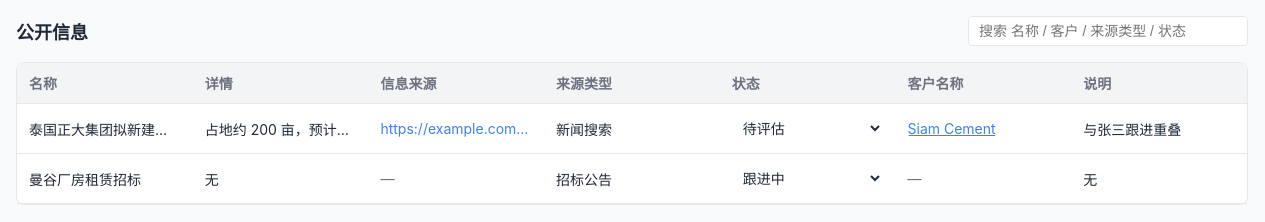
it: OpportunityList › filters opportunities by customer_name via search input
The width and height of the screenshot is (1265, 222).
Check: the button "Siam Cement" is shown, box [908,120,996,137]
Type "siam" into the search field with test id "search-input" at (1108, 31), box [968,16,1248,46]
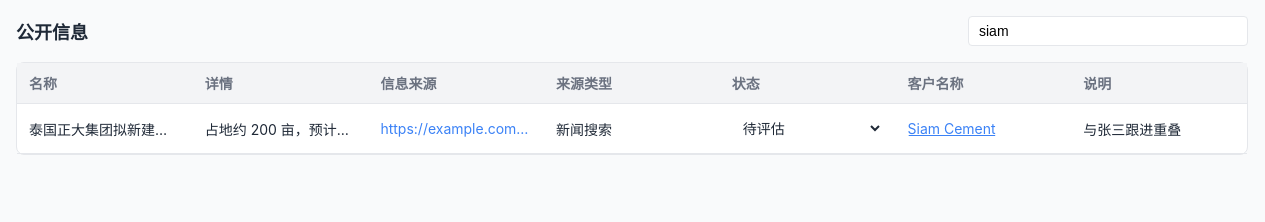
Check: the text "泰国正大集团拟新建食品加工厂" is shown, box [17,104,193,154]
Check: the text "曼谷厂房租赁招标" is gone
